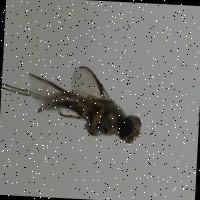Oriental-fruit-fly: (22, 48, 148, 146)
